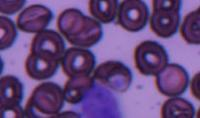L: (74, 80, 125, 116)
